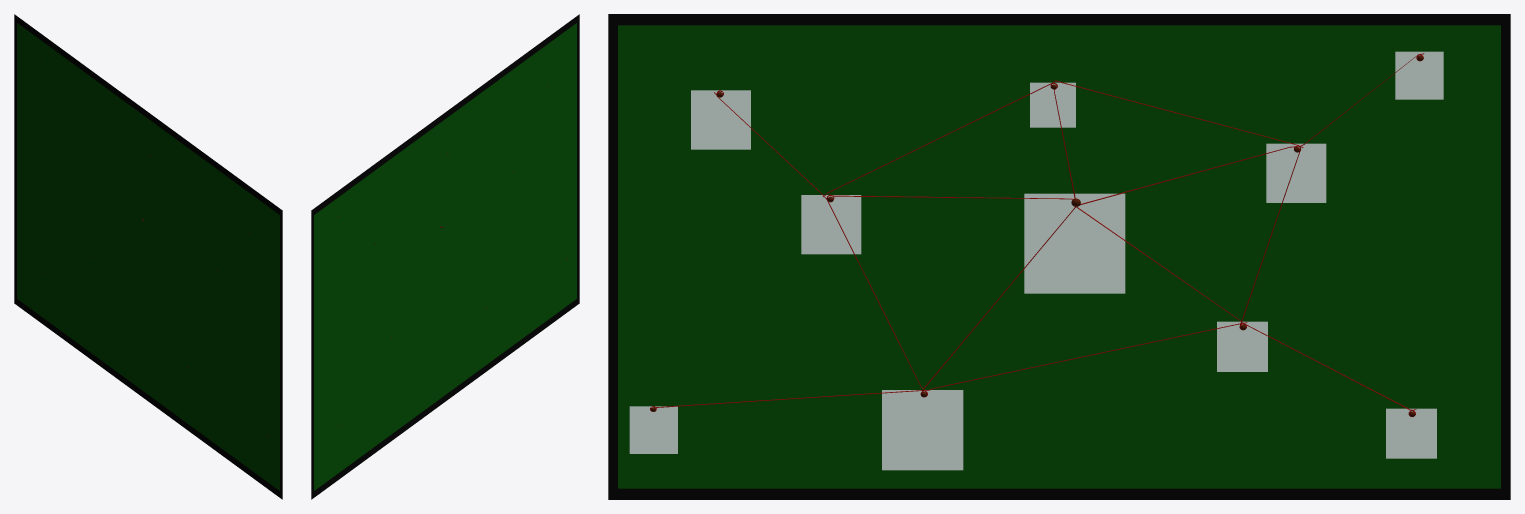
The model's file is PegBoard.fbx.
The picture shows the model from 3 angles, left to right: view 1: azimuth 30°, elevation 25°; view 2: azimuth 150°, elevation 25°; view 3: azimuth 270°, elevation 25°; orthographic projection. The views are drawn at different scales.
Visible parts, largest first — view 1: Cylinder.001; view 2: Cylinder.001; view 3: Cylinder.001.
Part boxes in pixels (<box>): Cylinder.001: <box>14,14,282,499</box>; Cylinder.001: <box>311,14,579,499</box>; Cylinder.001: <box>608,14,1510,499</box>.
Size of the model in its own units: 31.79 by 1289 by 2169.
